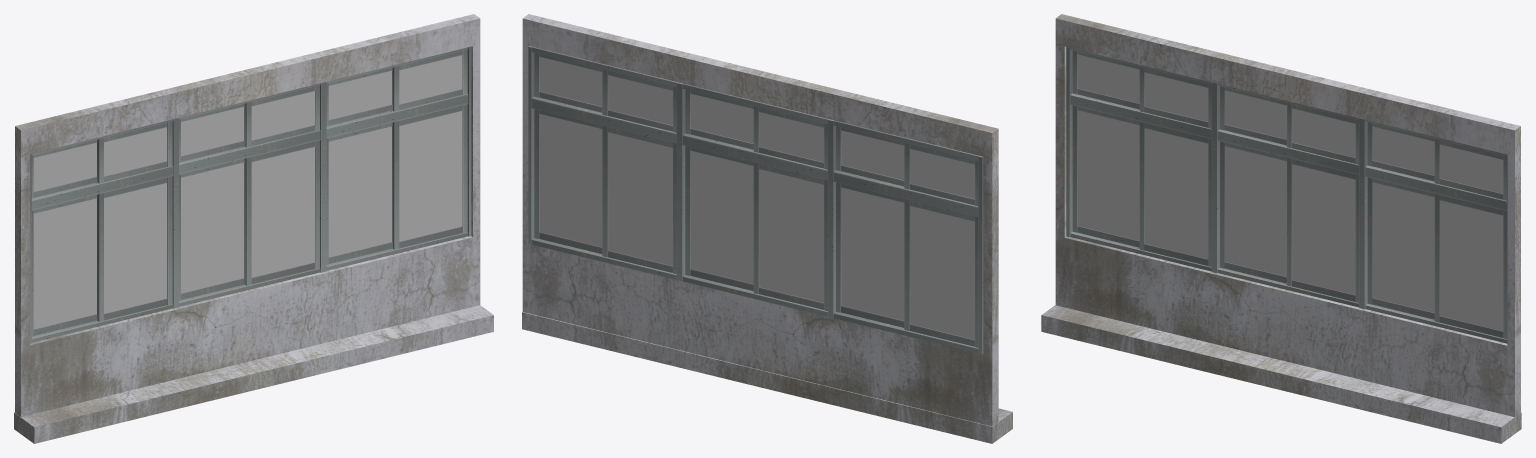
The model's file is shop_f_null01b.fbx.
The picture shows the model from 3 angles, left to right: view 1: azimuth 30°, elevation 25°; view 2: azimuth 150°, elevation 25°; view 3: azimuth 330°, elevation 25°; orthographic projection. The views are drawn at different scales.
Visible parts, largest first — view 1: shop_f_null01b; view 2: shop_f_null01b; view 3: shop_f_null01b.
Part boxes in pixels (left/top/right/bottom): shop_f_null01b: left=14, top=14, right=493, bottom=443; shop_f_null01b: left=522, top=14, right=1012, bottom=443; shop_f_null01b: left=1041, top=14, right=1521, bottom=443.
Size of the model in its own units: 5.4 by 3.41 by 0.4234.
